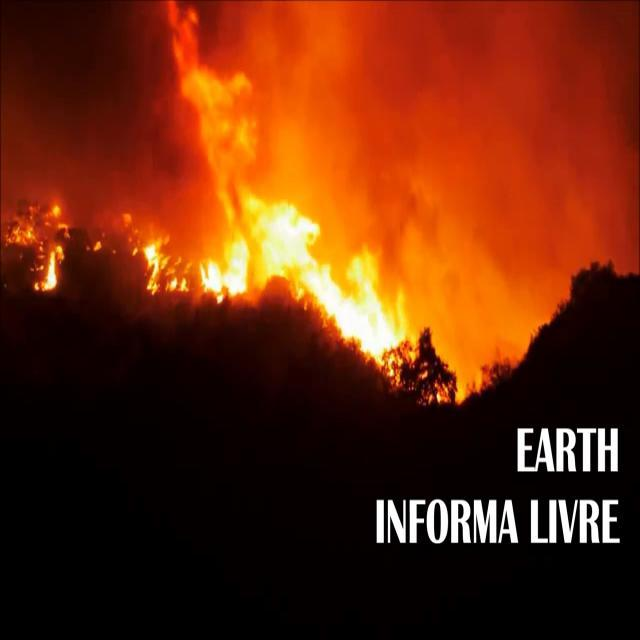Fire: (148, 0, 307, 299), (258, 170, 432, 414), (13, 178, 236, 362)
Smoke: (258, 14, 640, 238), (6, 18, 183, 240), (415, 185, 545, 379)
